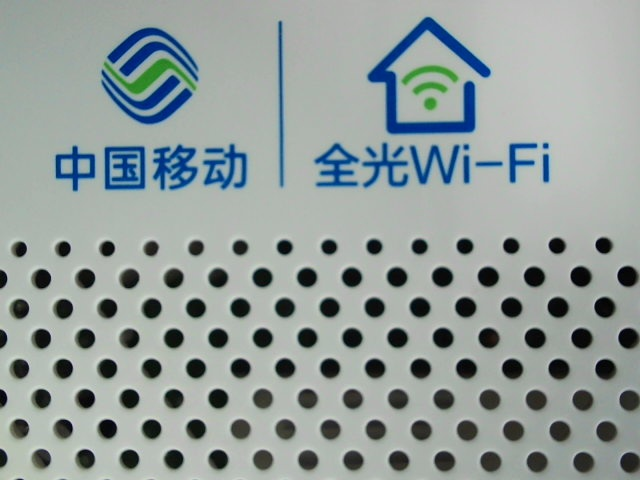BJ_QuanGuangMobile: (50, 19, 561, 194)
